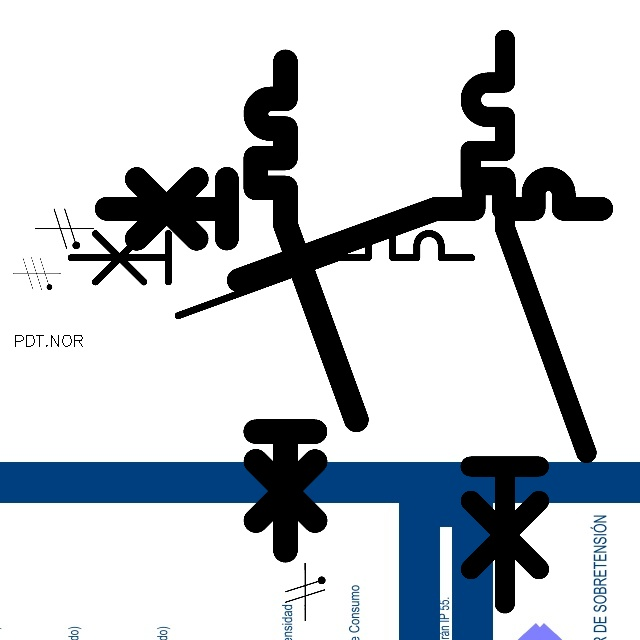interruptor_termomagnetico: (456, 25, 601, 617), (93, 166, 613, 293), (243, 49, 368, 562), (60, 223, 482, 326)
